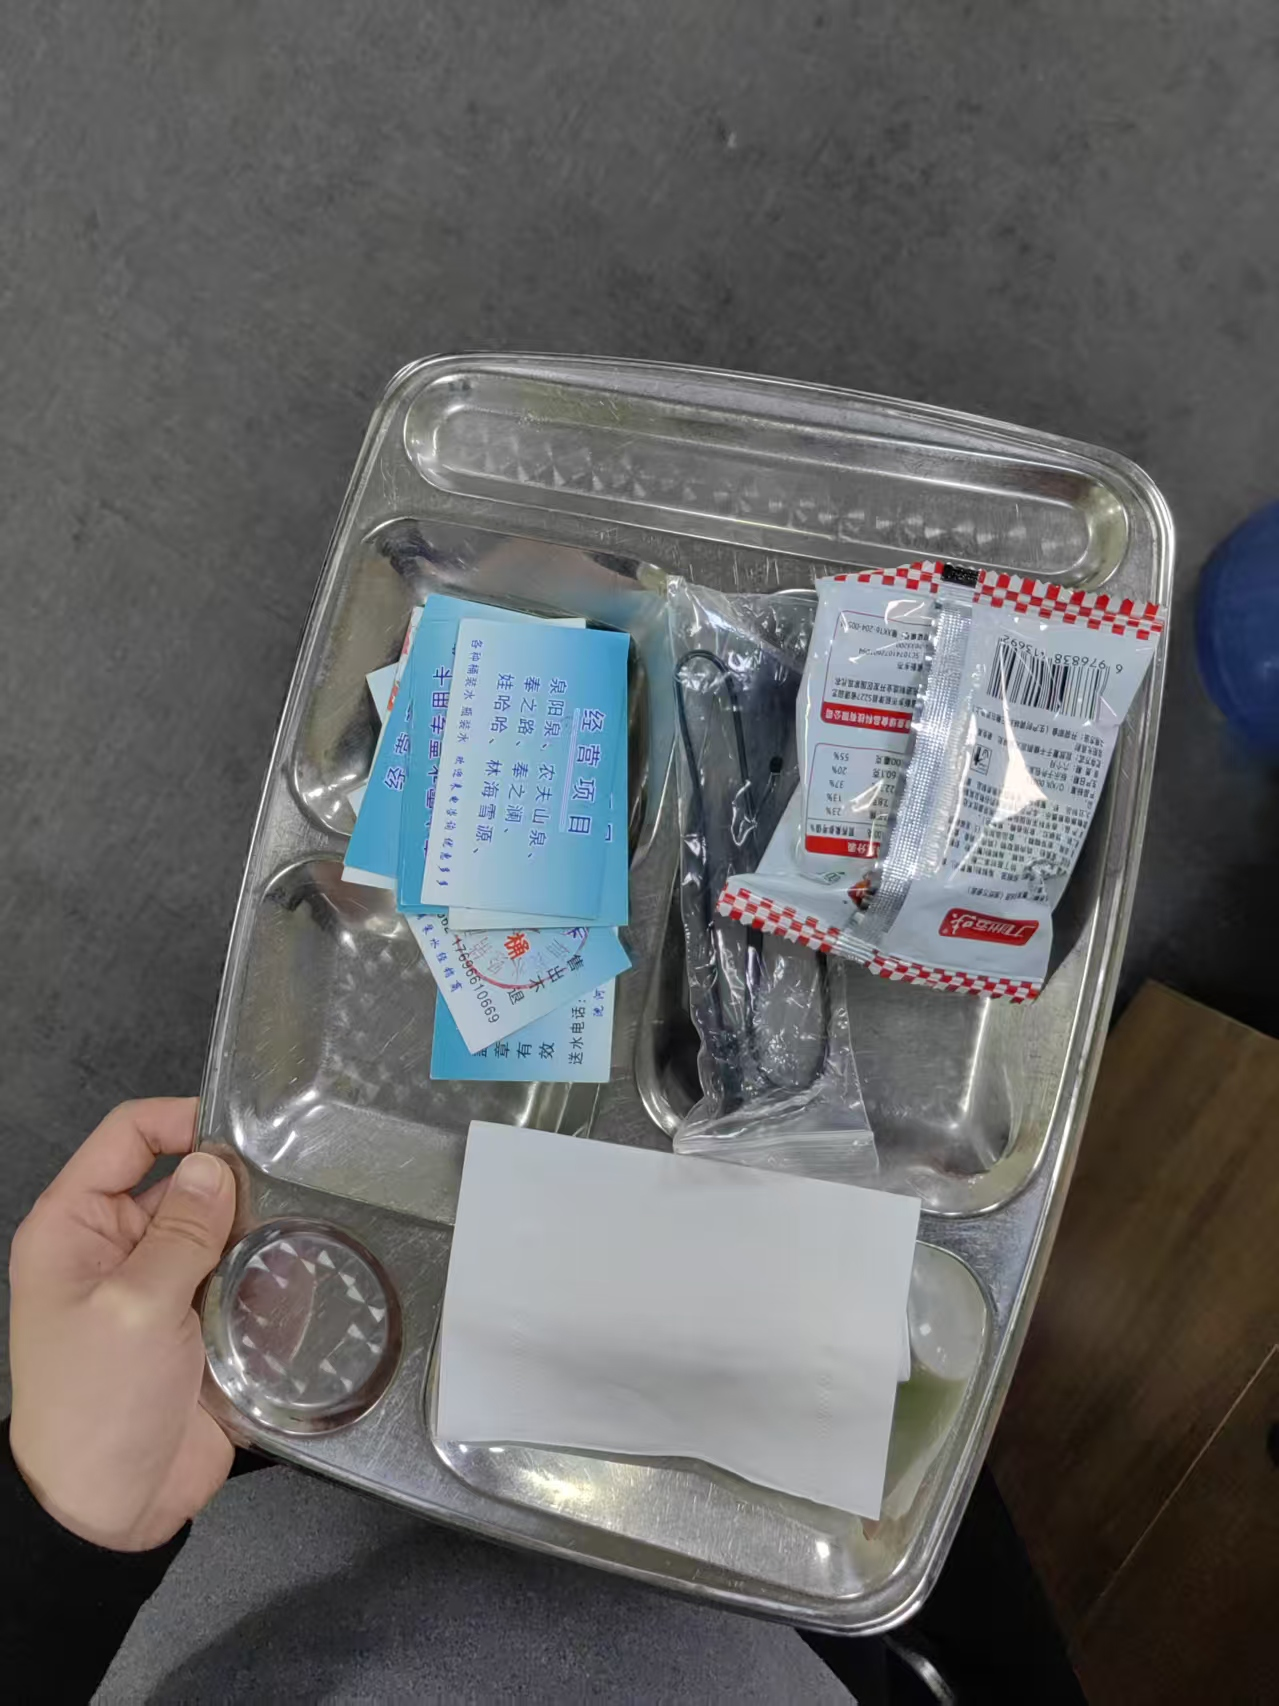moderate: (339, 564, 1167, 1126)
plate: (172, 347, 1180, 1639)
tissue: (431, 1118, 926, 1526)
